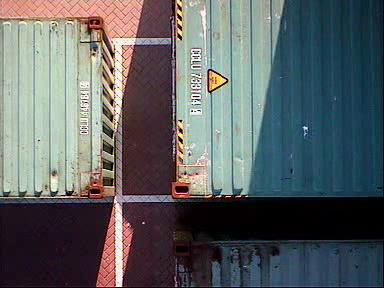groundmarker_2: (257, 174, 315, 207), (253, 35, 311, 68), (254, 3, 312, 35)
